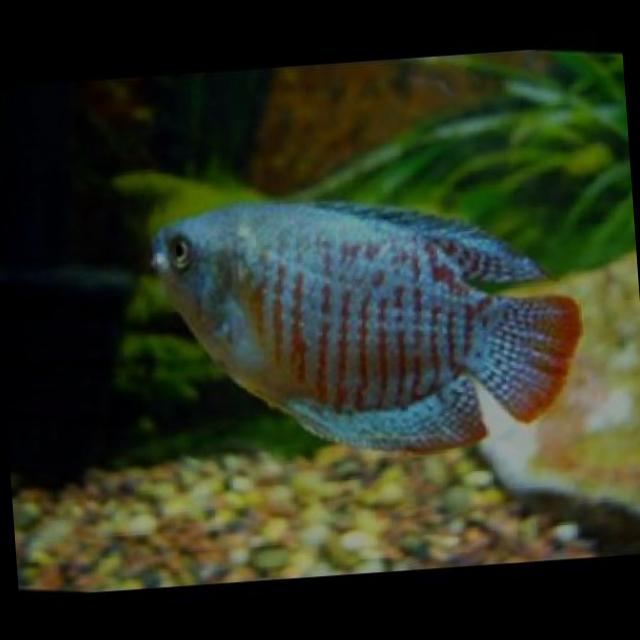Gourami: (146, 172, 596, 470)
